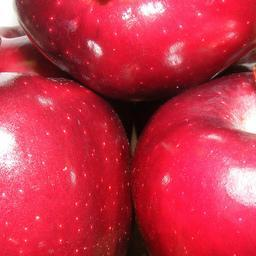apple: (13, 2, 254, 103), (1, 78, 132, 253), (128, 74, 256, 252)
